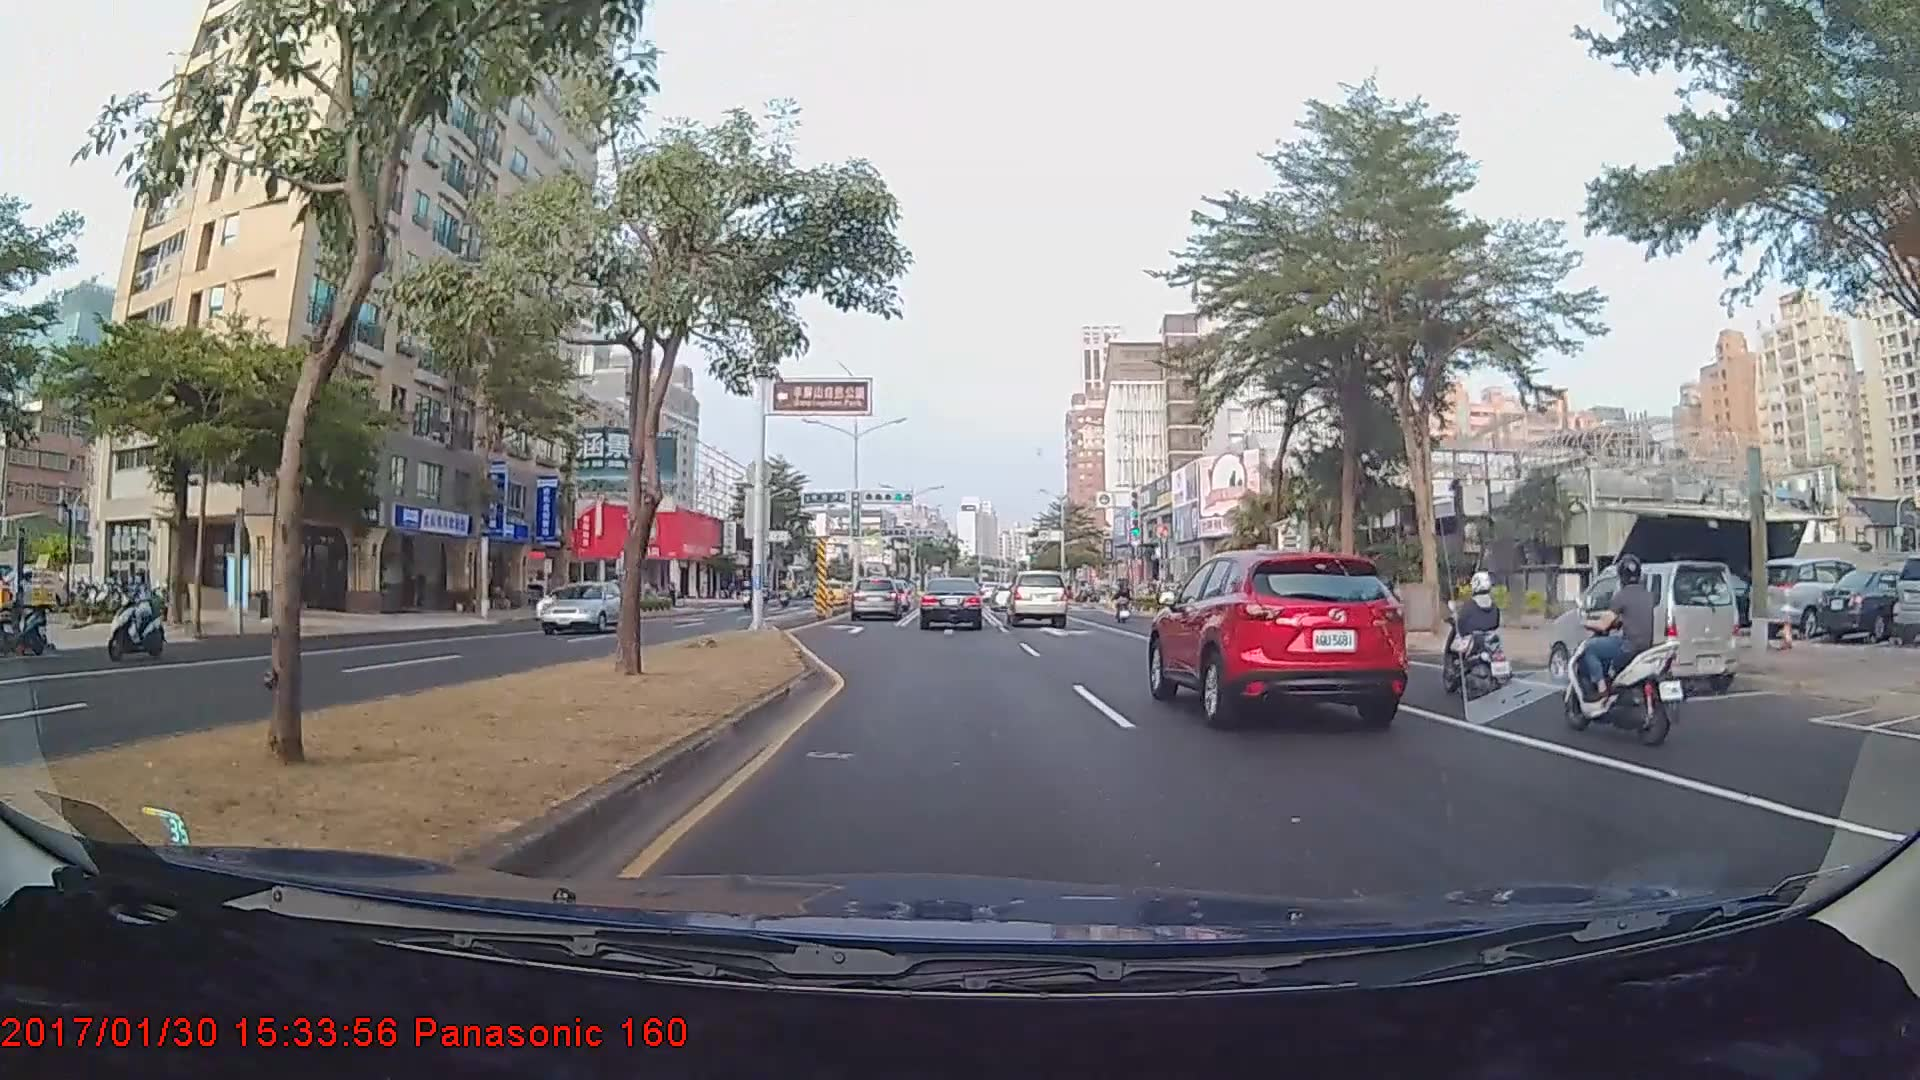rider: (1550, 554, 1685, 742), (1431, 572, 1528, 714), (105, 566, 170, 666), (1113, 586, 1138, 629)
vehicle: (1150, 542, 1411, 725), (1548, 560, 1740, 697), (1747, 558, 1880, 638), (536, 579, 627, 634), (1005, 569, 1069, 626), (919, 577, 984, 631), (848, 574, 909, 622)
